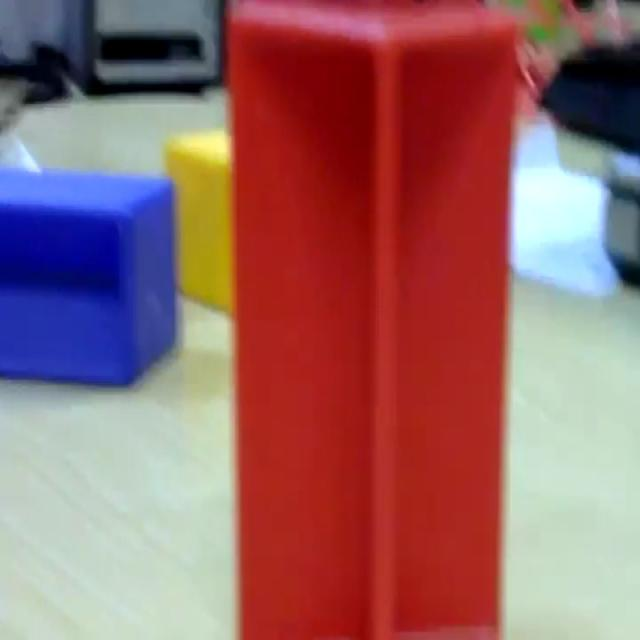blue_block: (0, 162, 176, 386)
red_block: (226, 5, 518, 636)
